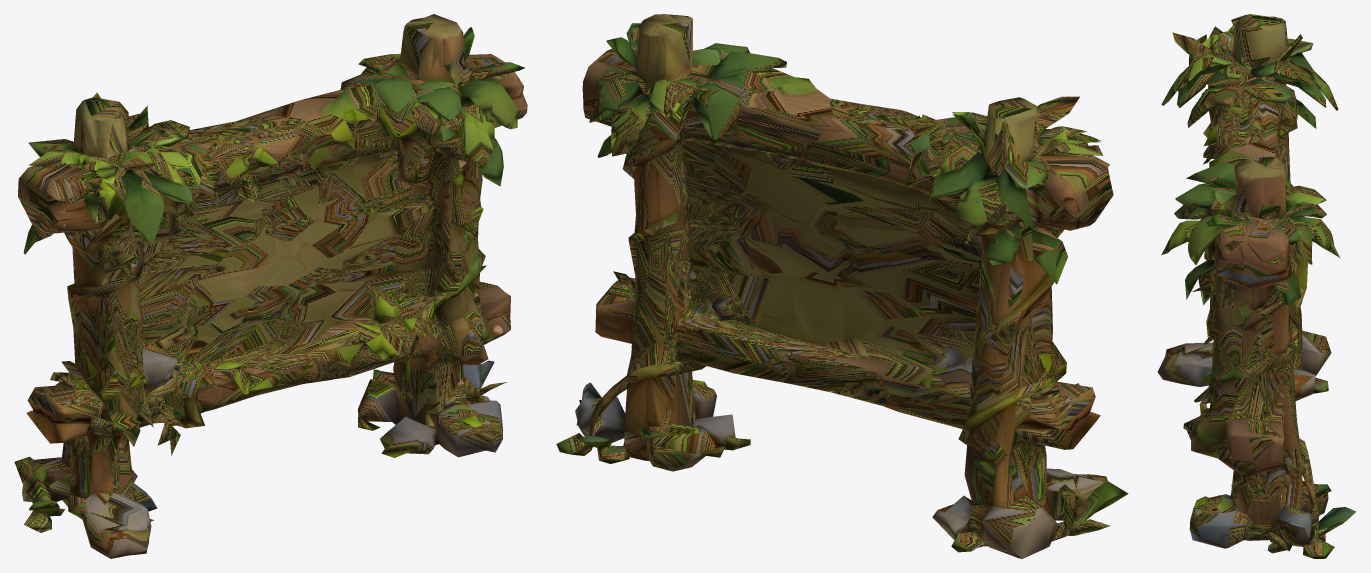
File: stylized_jungle_sign_01.glb
3 renders of one model, left to right at view 1: azimuth 30°, elevation 25°; view 2: azimuth 150°, elevation 25°; view 3: azimuth 270°, elevation 25°, orthographic. The views are drawn at different scales.
Visible parts, largest first — view 1: tripo_node_c99501a0-7ad2-45bb-865d-9399234cd6ce; view 2: tripo_node_c99501a0-7ad2-45bb-865d-9399234cd6ce; view 3: tripo_node_c99501a0-7ad2-45bb-865d-9399234cd6ce.
Boxes of the visible parts, x1=… form: tripo_node_c99501a0-7ad2-45bb-865d-9399234cd6ce: x1=14, y1=14, x2=527, y2=558; tripo_node_c99501a0-7ad2-45bb-865d-9399234cd6ce: x1=556, y1=14, x2=1128, y2=558; tripo_node_c99501a0-7ad2-45bb-865d-9399234cd6ce: x1=1157, y1=14, x2=1355, y2=558.
Size of the model in its own units: 0.9858 by 0.7607 by 0.3749.
1 material, 1 textured.
